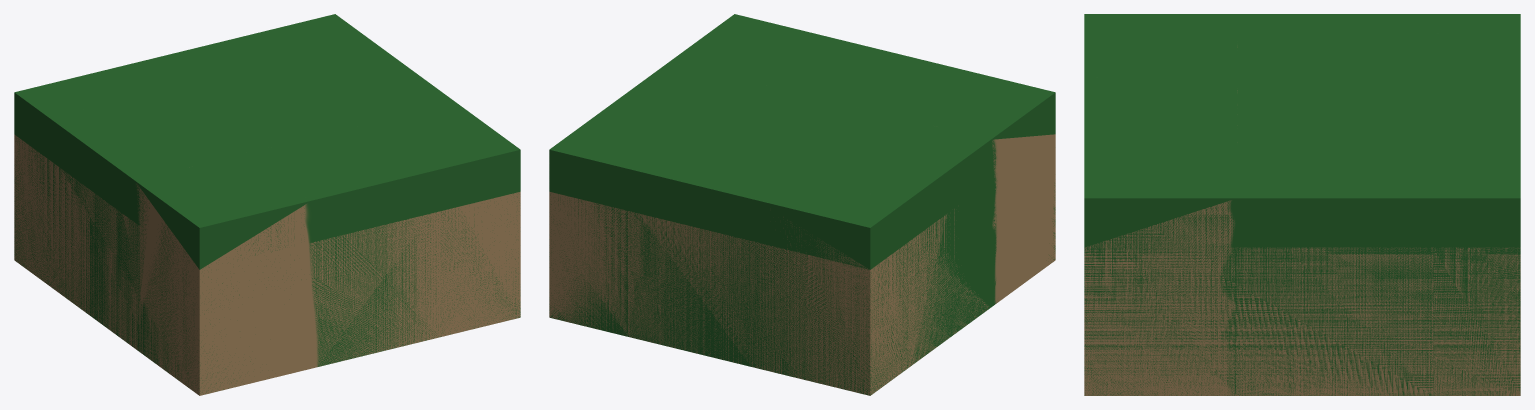
File: ShoreGrassTiles.gltf
The picture shows the model from 3 angles, left to right: view 1: azimuth 30°, elevation 25°; view 2: azimuth 150°, elevation 25°; view 3: azimuth 270°, elevation 25°; orthographic projection. The views are drawn at different scales.
Visible parts, largest first — view 1: Shore_Grass_NW, Shore, Shore_Grass_N, Grass, Shore_Grass_NWInv; view 2: Shore_Grass_N, Shore_Grass_NW, Shore, Shore_Grass_NWInv, Grass; view 3: Shore_Grass_N, Shore, Shore_Grass_NW, Grass, Shore_Grass_NWInv.
Part boxes in pixels (x1=…): Shore_Grass_NW: x1=15, y1=34, x2=520, y2=394; Shore: x1=14, y1=134, x2=520, y2=395; Shore_Grass_N: x1=14, y1=14, x2=455, y2=395; Grass: x1=14, y1=23, x2=520, y2=393; Shore_Grass_NWInv: x1=51, y1=14, x2=520, y2=394; Shore_Grass_N: x1=549, y1=61, x2=1055, y2=395; Shore_Grass_NW: x1=629, y1=14, x2=1055, y2=395; Shore: x1=549, y1=134, x2=1055, y2=395; Shore_Grass_NWInv: x1=549, y1=62, x2=1052, y2=390; Grass: x1=549, y1=23, x2=1055, y2=395; Shore_Grass_N: x1=1084, y1=14, x2=1520, y2=395; Shore: x1=1084, y1=247, x2=1520, y2=395; Shore_Grass_NW: x1=1084, y1=14, x2=1520, y2=395; Grass: x1=1084, y1=14, x2=1520, y2=395; Shore_Grass_NWInv: x1=1237, y1=79, x2=1520, y2=198.
Size of the model in its own units: 2 by 1 by 2.
